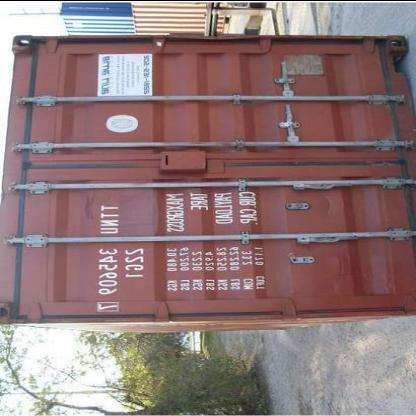Damage: (311, 240, 367, 296), (72, 190, 104, 224), (312, 188, 338, 218)
